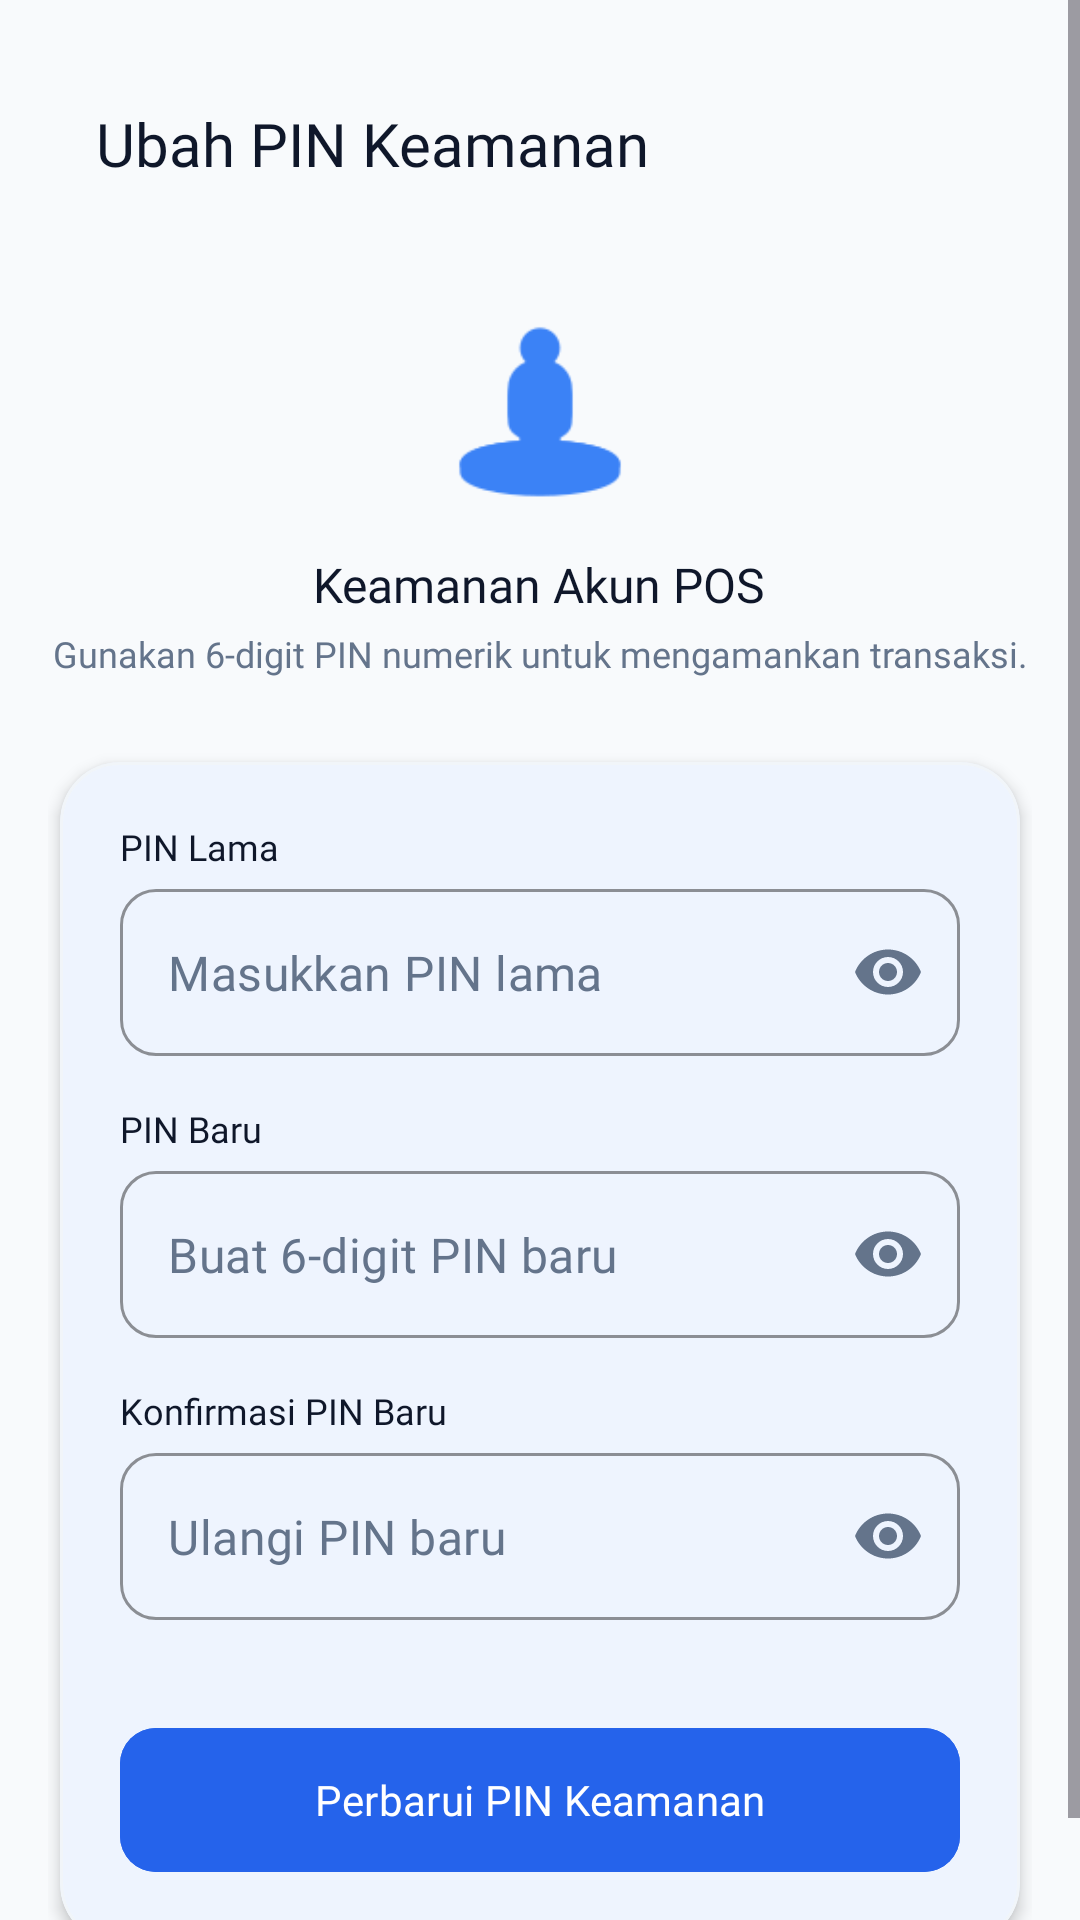

Icons on this 1080*1920 Android screen, each with its box as [x1,y1,x2,y2]:
role: [459,327,621,497]
